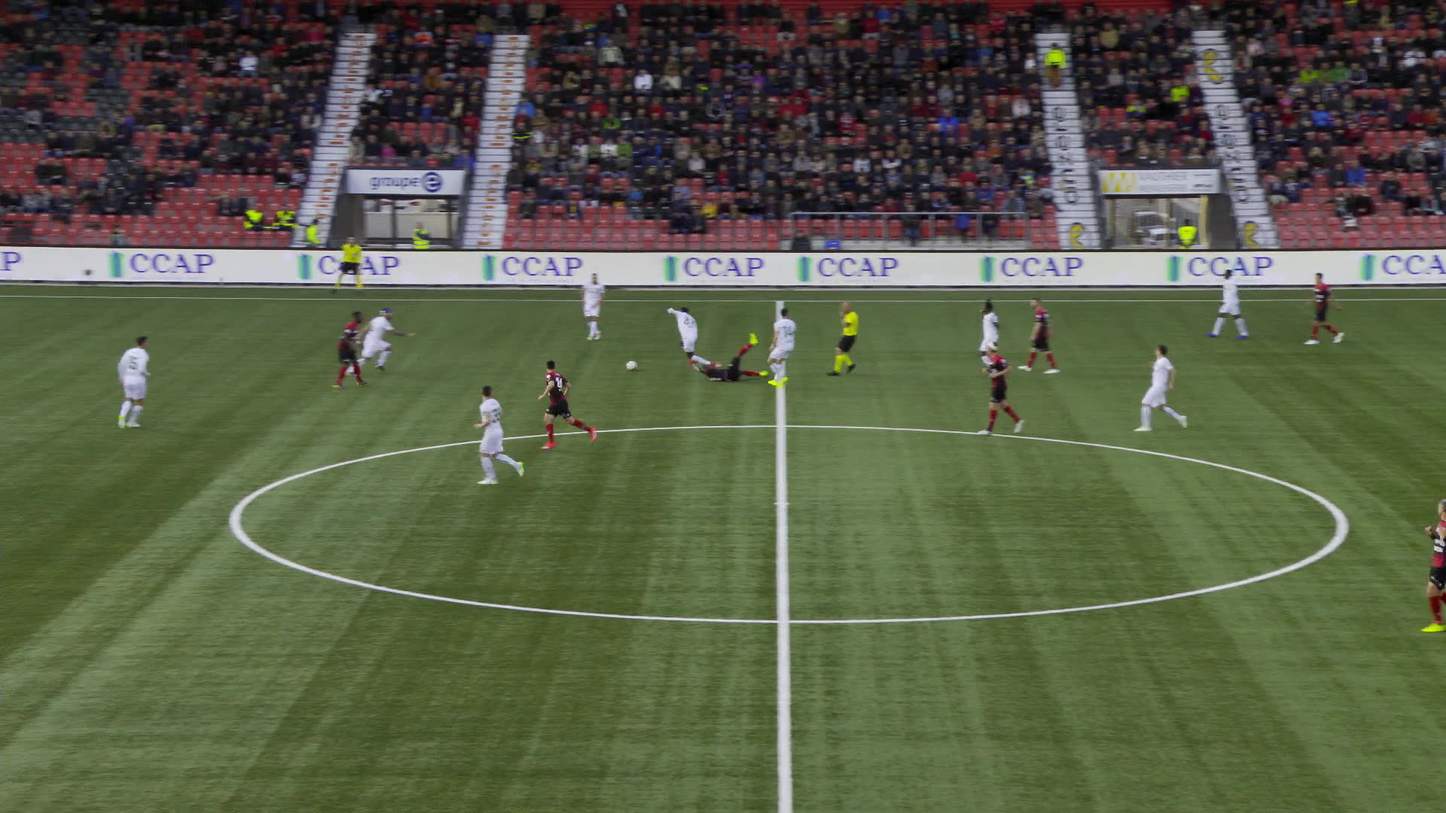ball: (624, 361, 634, 370)
player: (537, 358, 594, 448), (344, 307, 416, 376), (474, 386, 524, 483), (1133, 345, 1188, 431), (978, 342, 1024, 434), (695, 333, 767, 382), (1420, 497, 1445, 630), (1016, 297, 1060, 372), (1206, 269, 1249, 339), (1302, 273, 1344, 344), (117, 334, 149, 427), (333, 311, 365, 387), (767, 311, 795, 386), (666, 306, 697, 371), (578, 273, 603, 340), (979, 300, 1000, 376)
referee: (826, 299, 859, 376), (331, 237, 362, 295)
